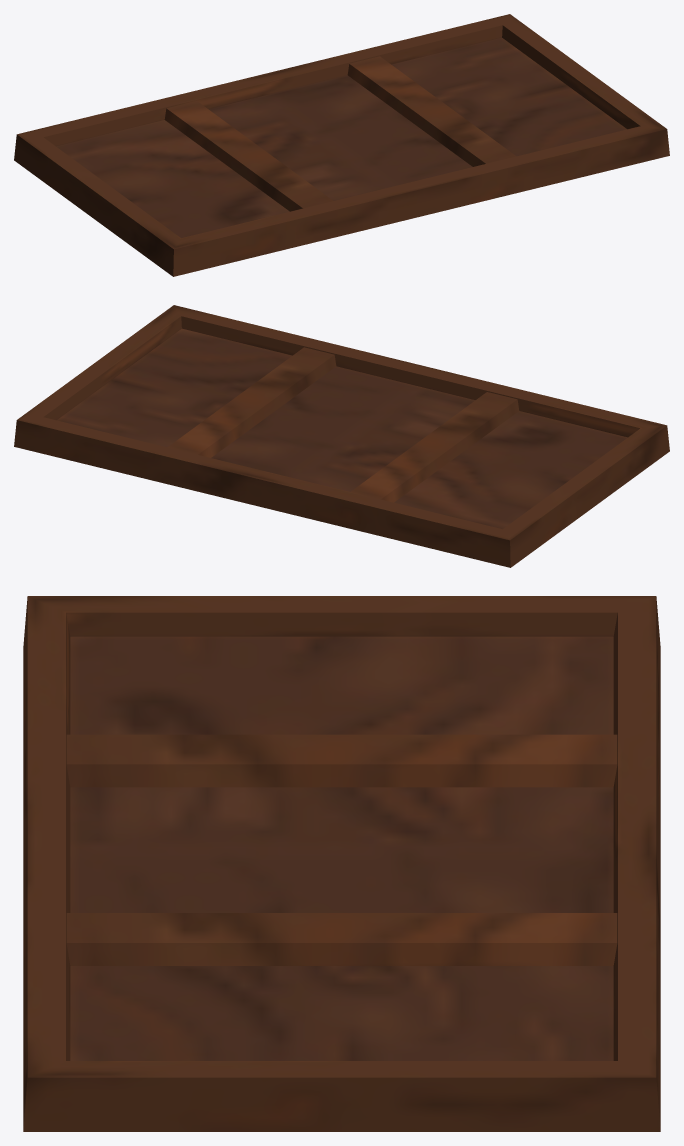
The model's file is Caixa_4_Tampa.glb.
3 views of the same model, one above another, from view 1: azimuth 30°, elevation 25°; view 2: azimuth 150°, elevation 25°; view 3: azimuth 270°, elevation 25° (orthographic). The views are drawn at different scales.
Visible parts, largest first — view 1: Caixa.4.Tampa; view 2: Caixa.4.Tampa; view 3: Caixa.4.Tampa.
Boxes of the visible parts, <box> form: Caixa.4.Tampa: <box>14,14,669,276</box>; Caixa.4.Tampa: <box>14,305,669,567</box>; Caixa.4.Tampa: <box>23,596,660,1131</box>.
Bounding box in the file's own units: 1.44 × 0.0751 × 0.7997.
Materials: 1 (1 with a texture image).
